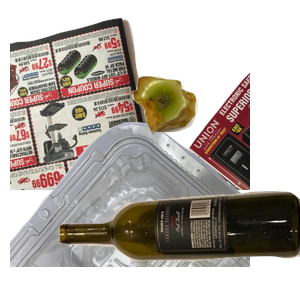glass: (60, 189, 300, 300)
paper: (10, 15, 250, 195)
plastic: (10, 120, 250, 300)
trash: (130, 74, 300, 199)
